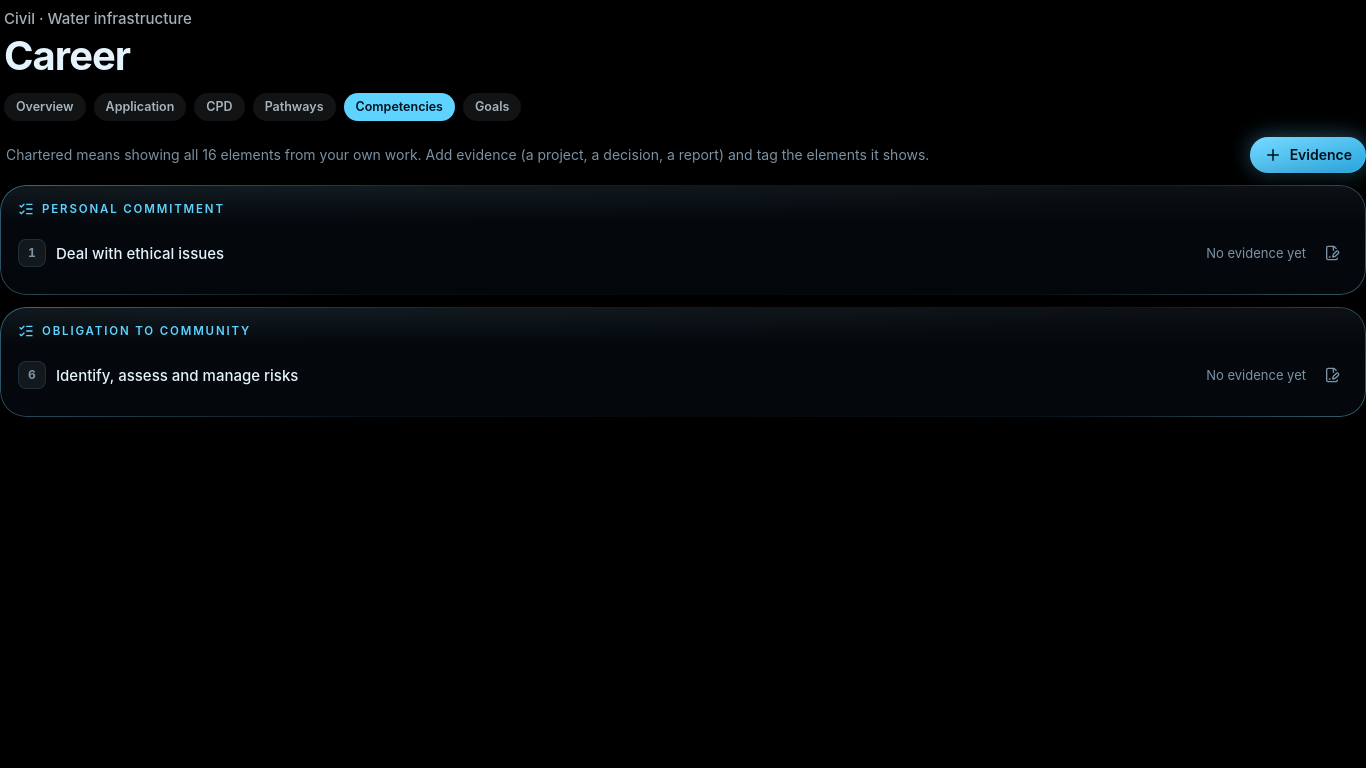
Test: <Career /> › drafts a competency claim, writes it up with the local model and saves it to Siris
Click the button named "Draft claim for element 6" at (1332, 375), box [1316,359,1348,391]
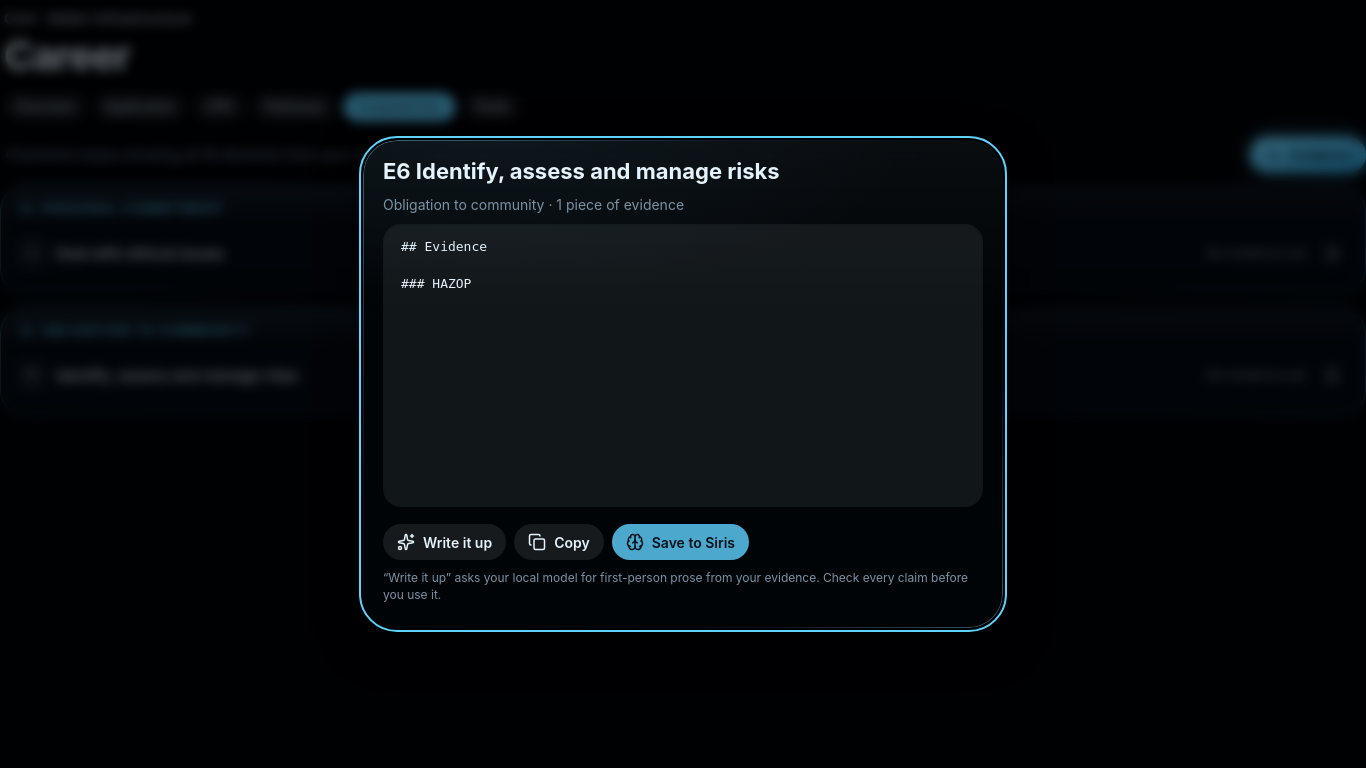
Click the button "Write it up" at (445, 542), box [383,524,506,560]
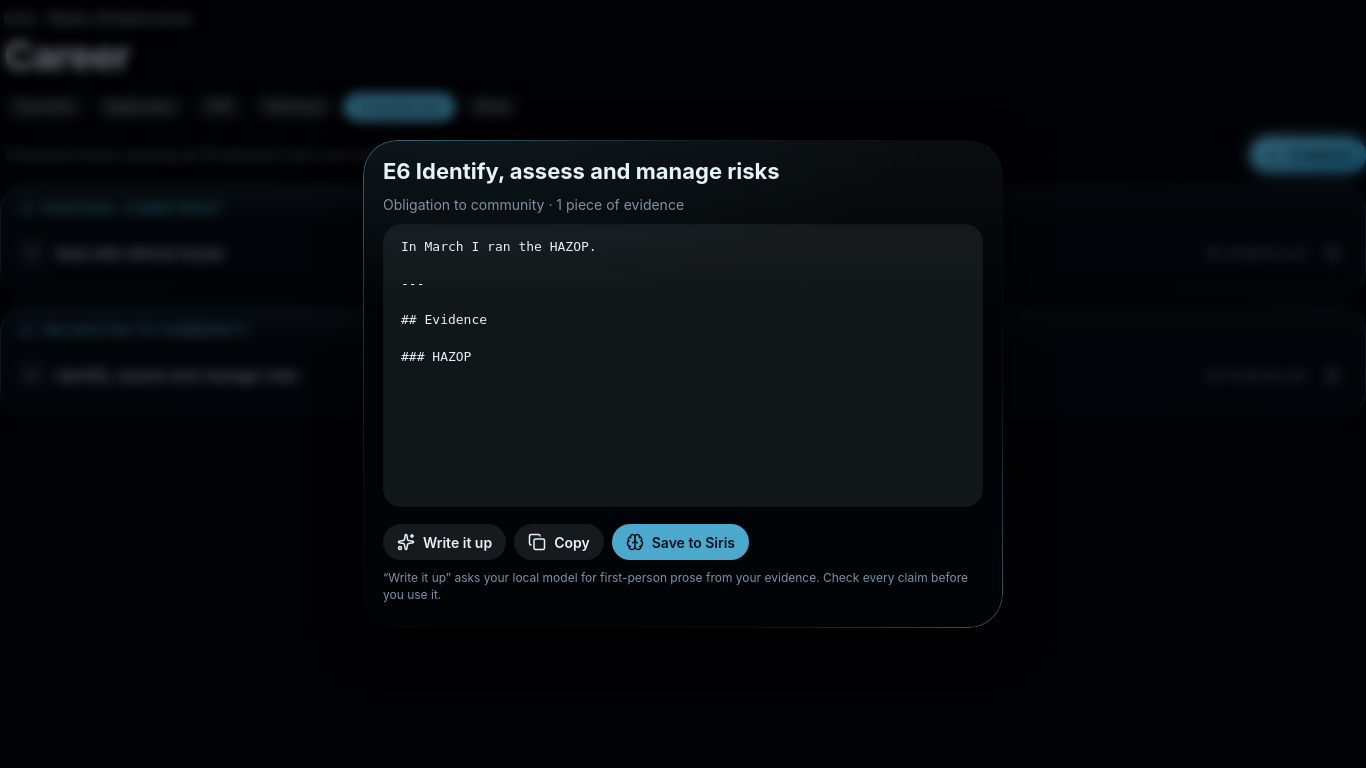
Click the button "Save to Siris" at (680, 542), box [612,524,749,560]
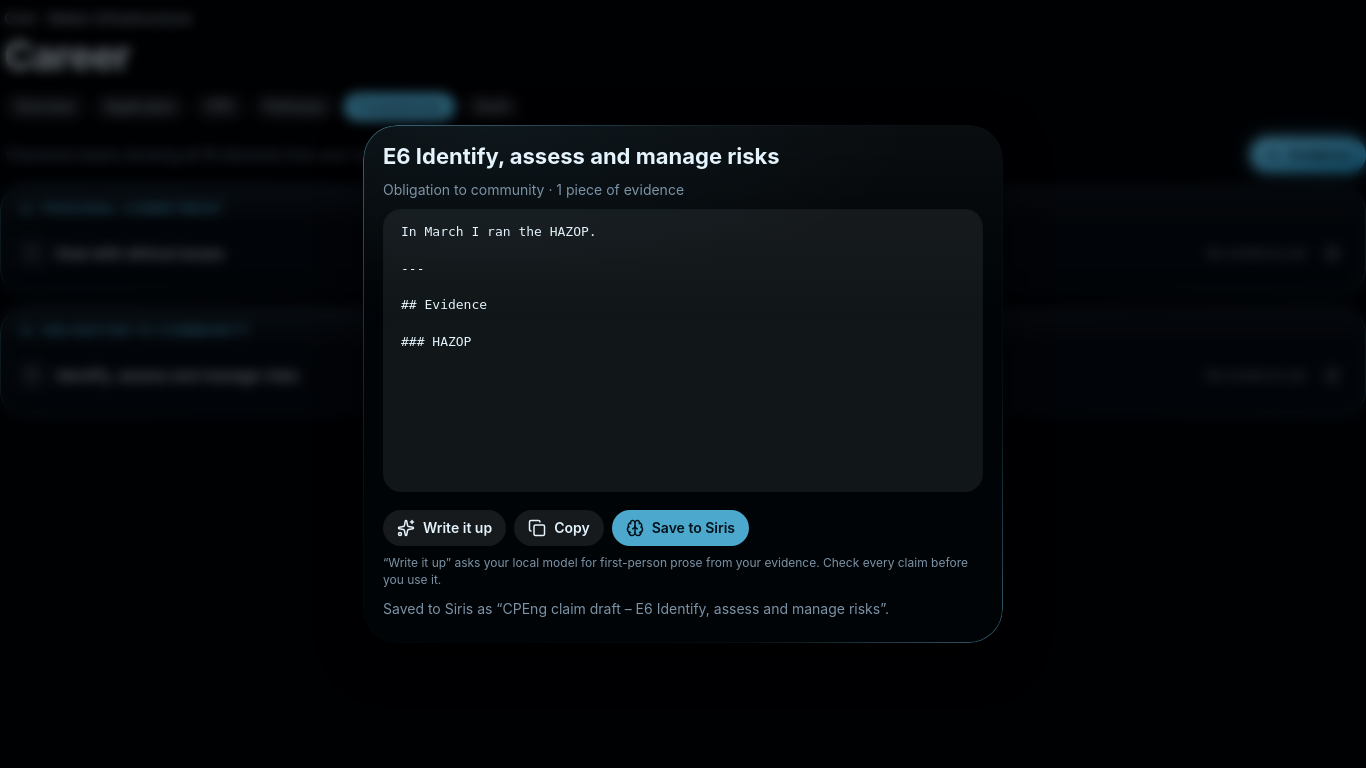
Check: the text "Saved to Siris as “CPEng claim draft – E6 Identify, assess and manage risks”." is shown, box [383,600,889,617]
